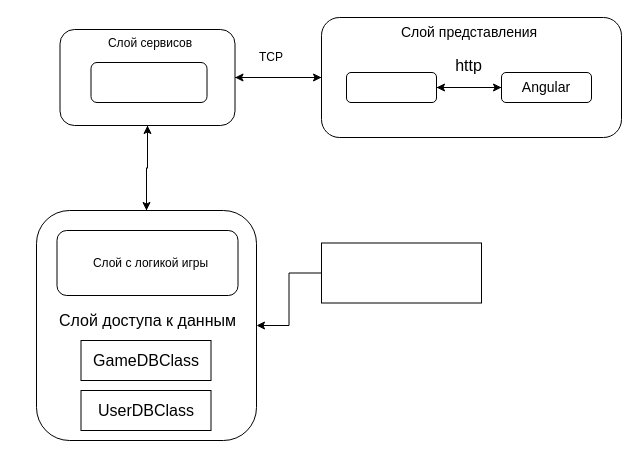
This 639x458 diagram has some shape labels left out. The centre of each missing label's shape, as x and y in pixels:
DataBase: (x=401, y=272)
WCF: (x=148, y=82)
WebAPI: (x=391, y=87)
